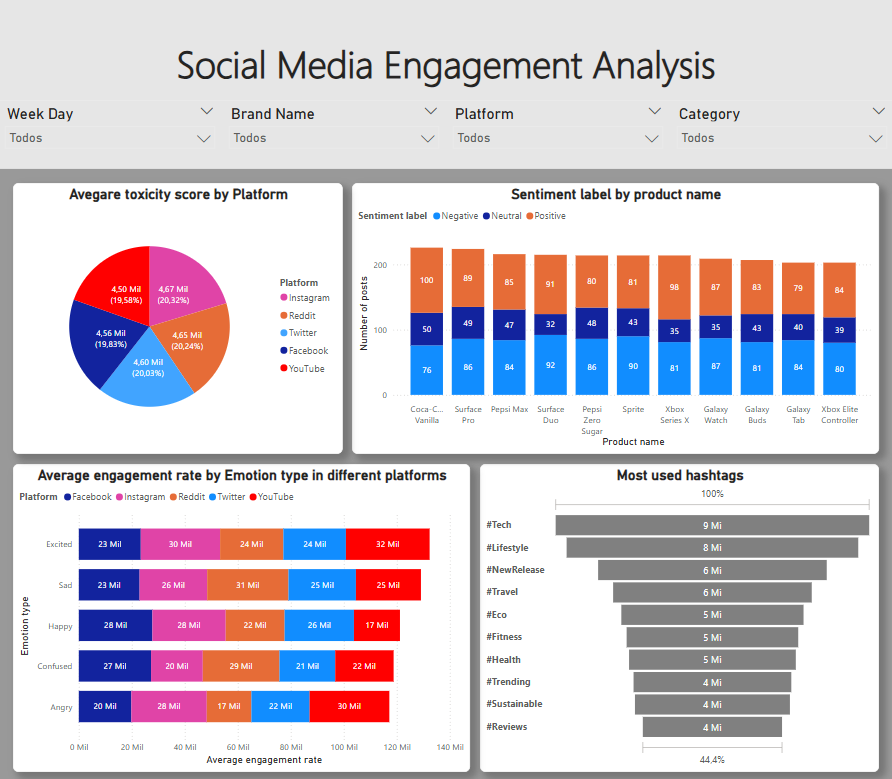

This screenshot's page, from the dashboard's own definition file:
{"tool":"powerbi","page":{"name":"Página 3","canvas":[1280,1120],"ordinal":2},"visuals":[{"type":"textbox","box":[0,0,1280,147],"z":0},{"type":"slicer","fields":{"Values":["Social Media Engagement Dataset.day_of_week"]},"box":[0,147,320,97],"z":1000},{"type":"slicer","fields":{"Values":["Social Media Engagement Dataset.brand_name"]},"box":[320,147,320,97],"z":2000},{"type":"slicer","fields":{"Values":["Social Media Engagement Dataset.platform"]},"box":[640,147,320,97],"z":3000},{"type":"slicer","fields":{"Values":["Social Media Engagement Dataset.topic_category"]},"box":[960,147,320,97],"z":4000},{"type":"funnel","title":"Most used hashtags","fields":{"Category":["Social Media Engagement Dataset.hashtags"],"Y":["Sum(Social Media Engagement Dataset.engagement_rate)"]},"box":[689,666,570,440],"z":5000},{"type":"columnChart","title":"Sentiment label by product name","fields":{"Category":["Social Media Engagement Dataset.product_name"],"Series":["Social Media Engagement Dataset.sentiment_label"],"Y":["Social Media Engagement Dataset.QtdPosts"]},"box":[506,264,753,387],"z":6000},{"type":"barChart","title":"Average engagement rate by Emotion type in different platforms","fields":{"Category":["Social Media Engagement Dataset.emotion_type"],"Y":["Avg(Social Media Engagement Dataset.engagement_rate)"],"Series":["Social Media Engagement Dataset.platform"]},"box":[21,666,653,440],"z":7000},{"type":"pieChart","title":"Avegare toxicity score by Platform","fields":{"Y":["Avg(Social Media Engagement Dataset.toxicity_score)"],"Category":["Social Media Engagement Dataset.platform"]},"box":[21,264,471,387],"z":8000}]}

Visuals, with their boxes in screenshot pixels (x1, y1, x2, y2), scaled from the page's 1280x1120 canvas onto the 892x779 screenshot:
textbox: locate(0, 0, 891, 102)
slicer - Social Media Engagement Dataset.day_of_week: locate(0, 102, 223, 170)
slicer - Social Media Engagement Dataset.brand_name: locate(223, 102, 446, 170)
slicer - Social Media Engagement Dataset.platform: locate(446, 102, 669, 170)
slicer - Social Media Engagement Dataset.topic_category: locate(669, 102, 891, 170)
"Most used hashtags" funnel: locate(480, 463, 877, 769)
"Sentiment label by product name" columnChart: locate(353, 184, 877, 453)
"Average engagement rate by Emotion type in different platforms" barChart: locate(15, 463, 470, 769)
"Avegare toxicity score by Platform" pieChart: locate(15, 184, 343, 453)
